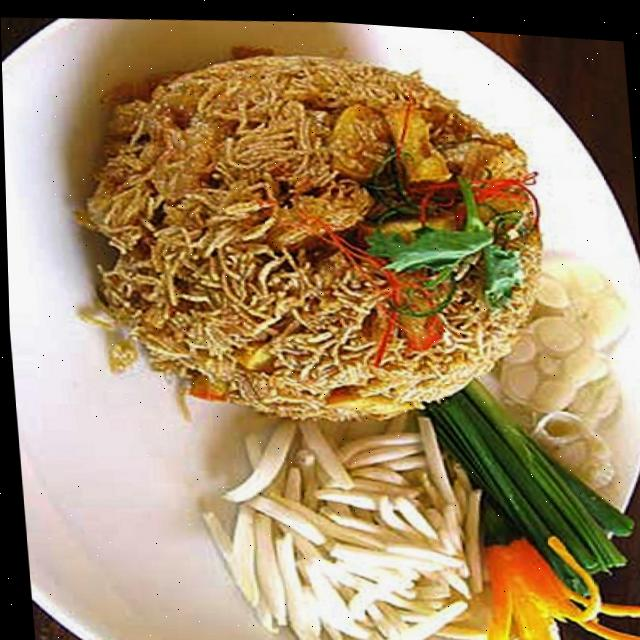面条主食: (49, 12, 573, 465)
